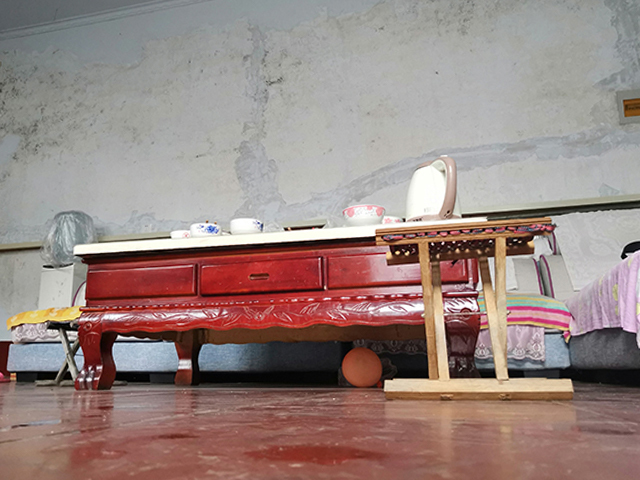sofa: (473, 207, 639, 381)
stool: (374, 214, 577, 403), (33, 317, 83, 390)
table: (67, 211, 492, 393)
